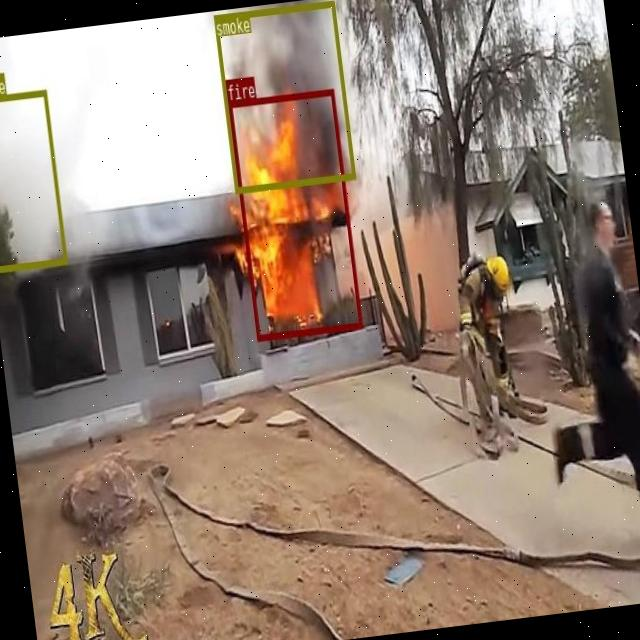fire: (228, 88, 362, 340)
smoke: (213, 0, 355, 191), (0, 88, 66, 270)
